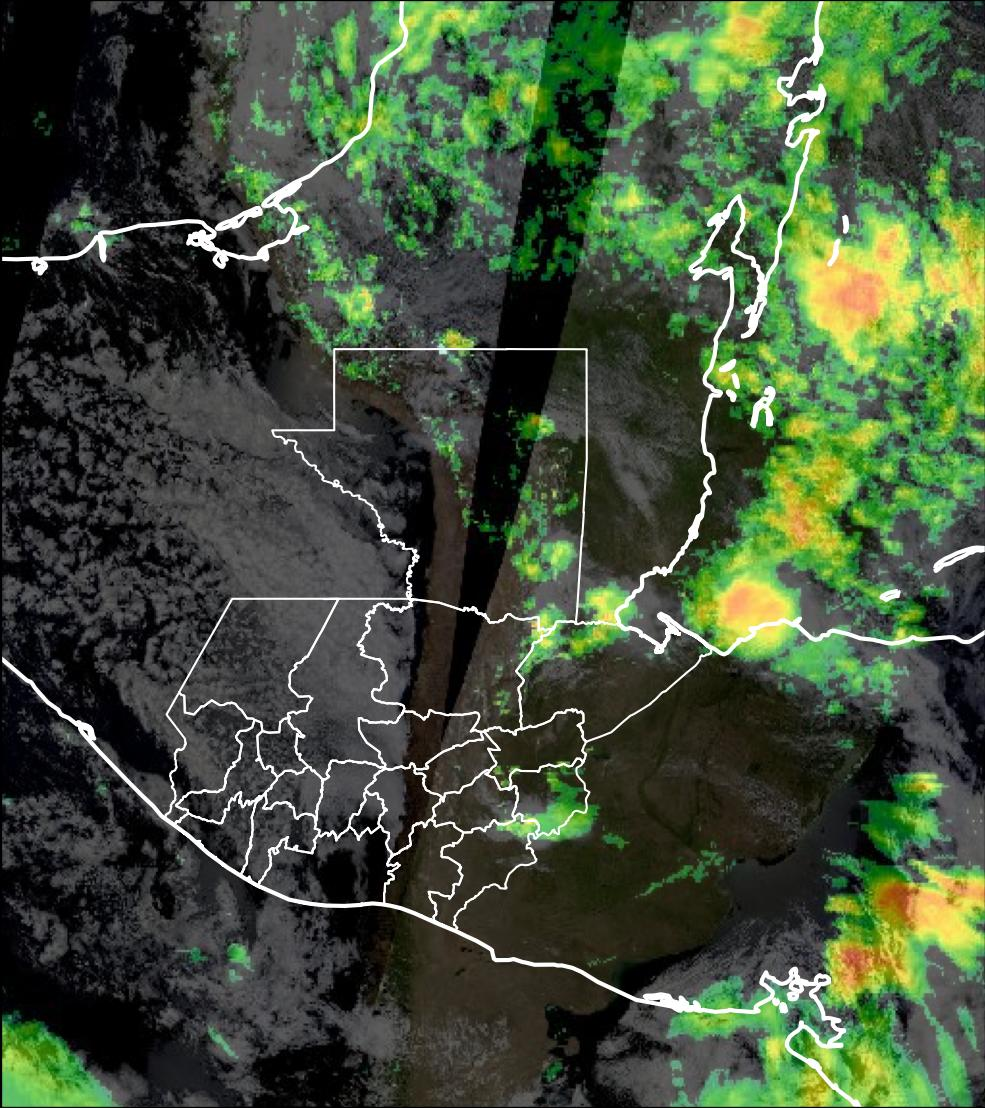precipitacion: (805, 243, 910, 360), (873, 869, 985, 962)
